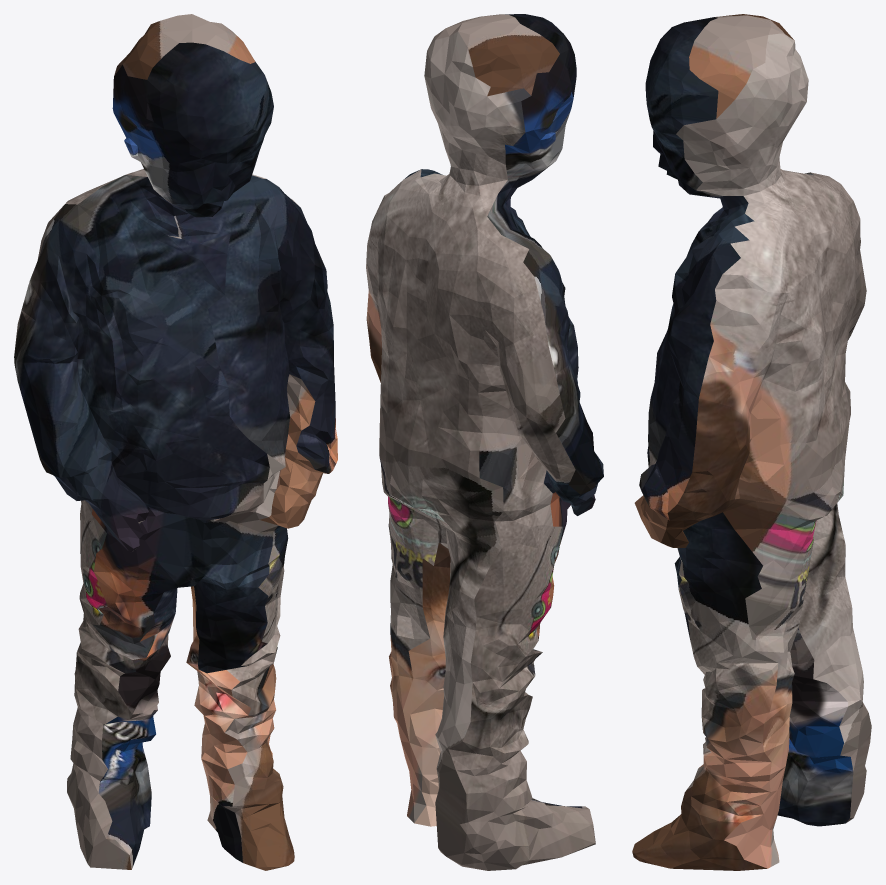
File: kid_4.glb
The picture shows the model from 3 angles, left to right: view 1: azimuth 30°, elevation 25°; view 2: azimuth 150°, elevation 25°; view 3: azimuth 270°, elevation 25°; orthographic projection.
Visible parts, largest first — view 1: kid_4; view 2: kid_4; view 3: kid_4.
Boxes of the visible parts, x1,y1,x2,y2 form: kid_4: (14, 14, 337, 870); kid_4: (366, 14, 603, 870); kid_4: (632, 14, 871, 870).
Size of the model in its own units: 0.3172 by 0.9598 by 0.2574.
1 material, 1 textured.
